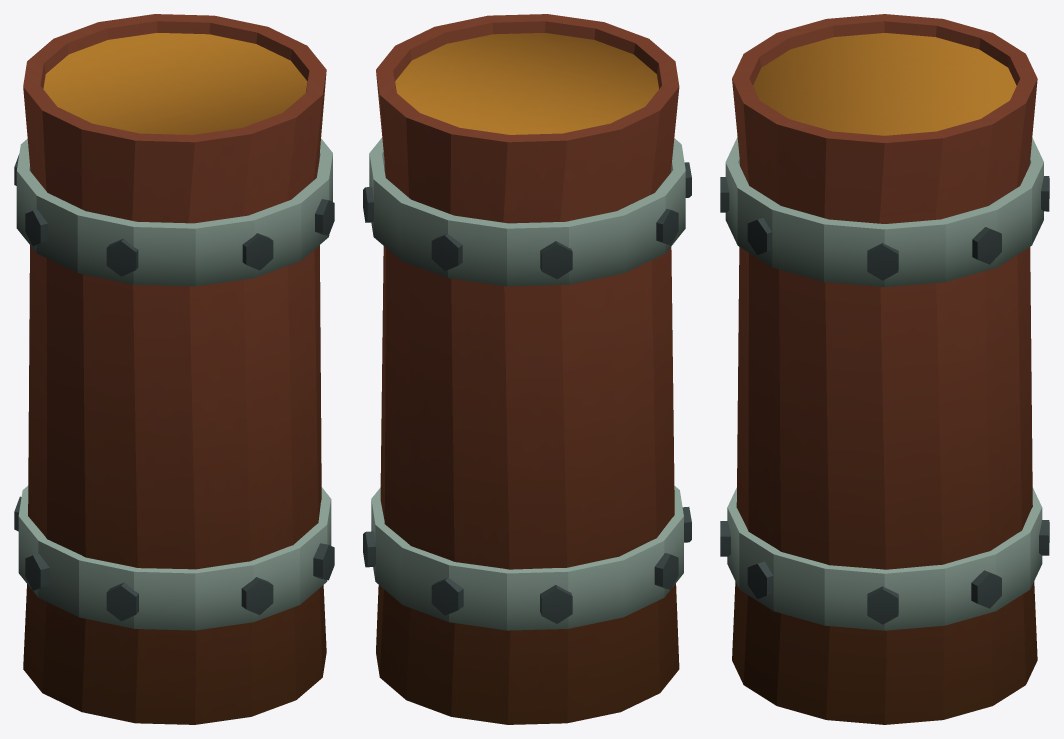
3 views of the same model, side by side, from view 1: azimuth 30°, elevation 25°; view 2: azimuth 150°, elevation 25°; view 3: azimuth 270°, elevation 25° (orthographic).
Parts seen in each view (by area): view 1: object.015; view 2: object.015; view 3: object.015.
Boxes of the visible parts, bbox=[...] form: object.015: bbox=[14, 14, 334, 724]; object.015: bbox=[363, 14, 691, 724]; object.015: bbox=[720, 14, 1049, 724].
Bounding box in the file's own units: 79.5 × 155 × 79.41.
